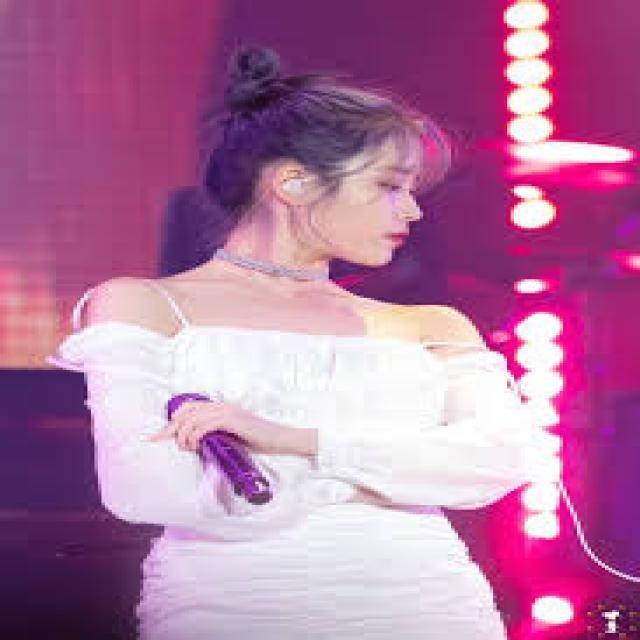earphone: (268, 164, 316, 208)
